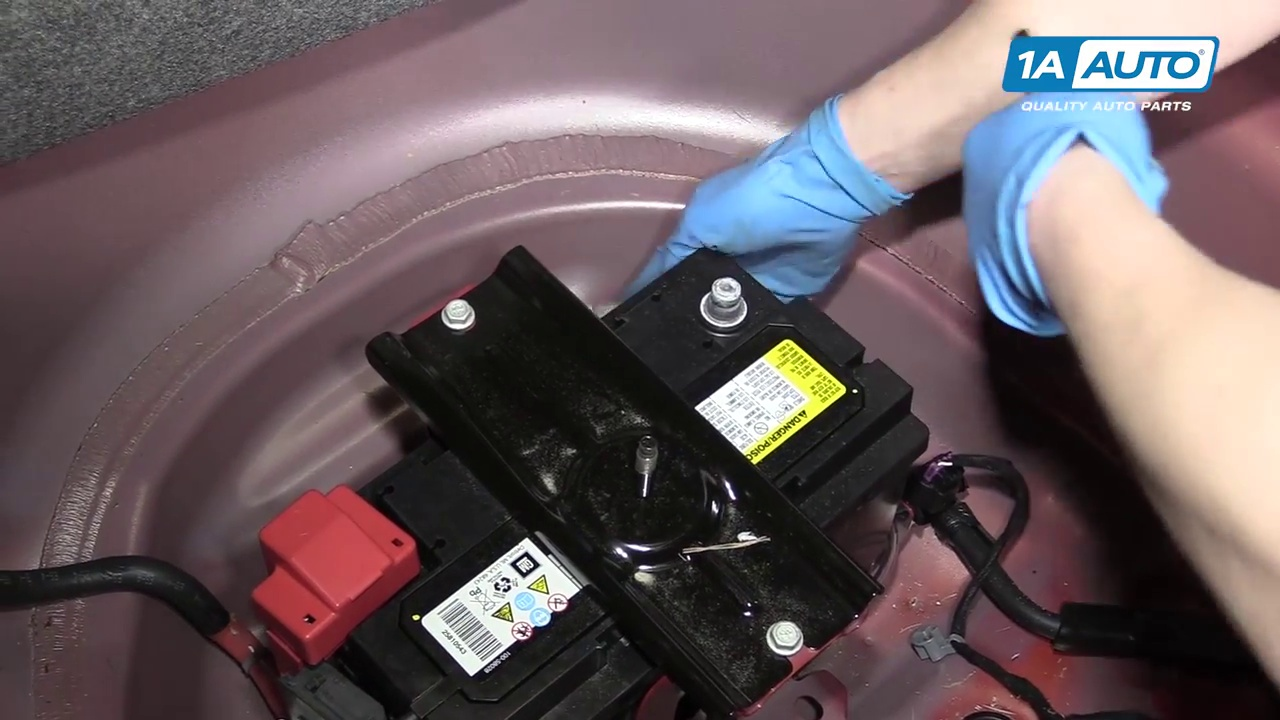battery: (292, 249, 914, 720)
neg_disconnected: (673, 250, 781, 354)
pos_connected: (235, 437, 433, 672)
